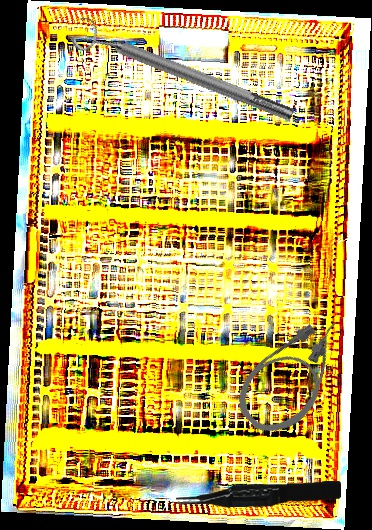Cannula: (224, 305, 368, 447)
Fixation Ring: (68, 12, 299, 134)
Tissue Forceps: (175, 480, 342, 509)
